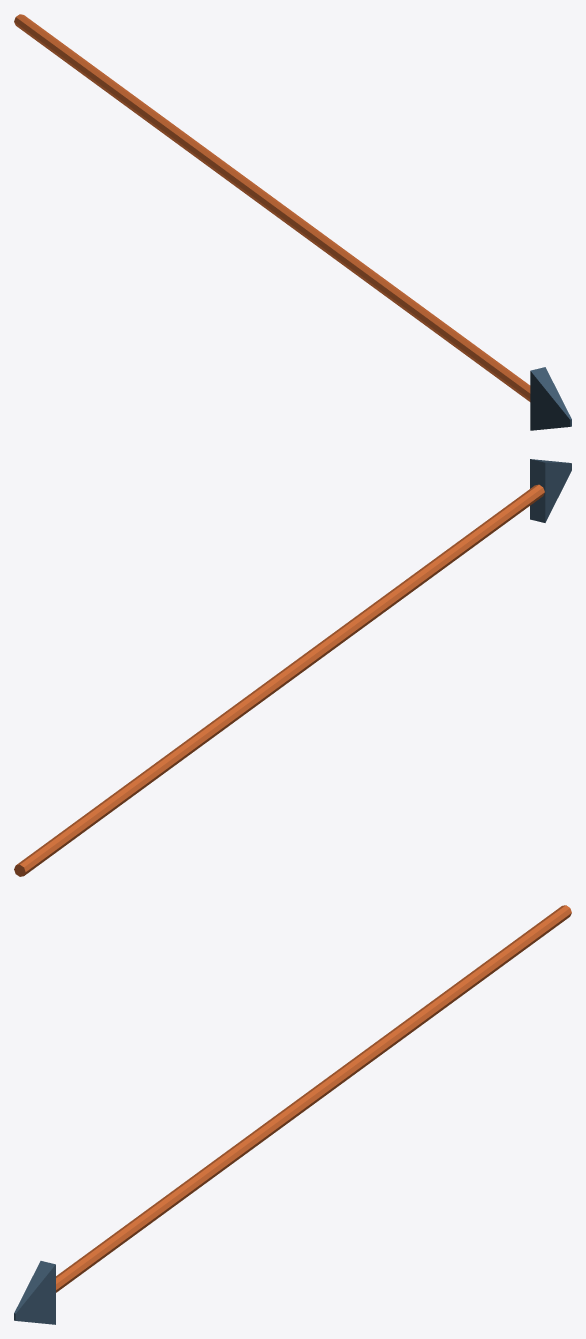
The model's file is spear.dae.
3 views of the same model, one above another, from view 1: azimuth 30°, elevation 25°; view 2: azimuth 150°, elevation 25°; view 3: azimuth 330°, elevation 25° (orthographic).
Parts seen in each view (by area): view 1: Cylinder.001; view 2: Cylinder.001; view 3: Cylinder.001.
Part boxes in pixels (x1=…): Cylinder.001: x1=14, y1=14, x2=571, y2=430; Cylinder.001: x1=14, y1=459, x2=571, y2=876; Cylinder.001: x1=14, y1=905, x2=571, y2=1324.
Bounding box in the file's own units: 0.0258 × 1.63 × 0.0982.
